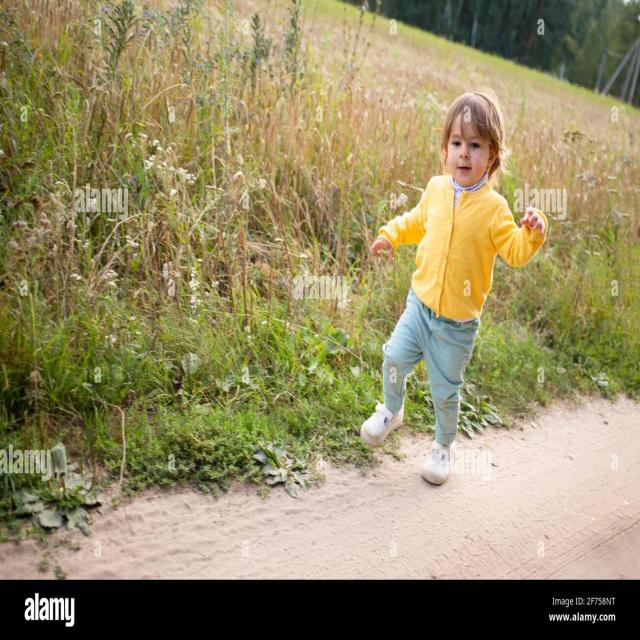Person: (362, 92, 548, 486)
